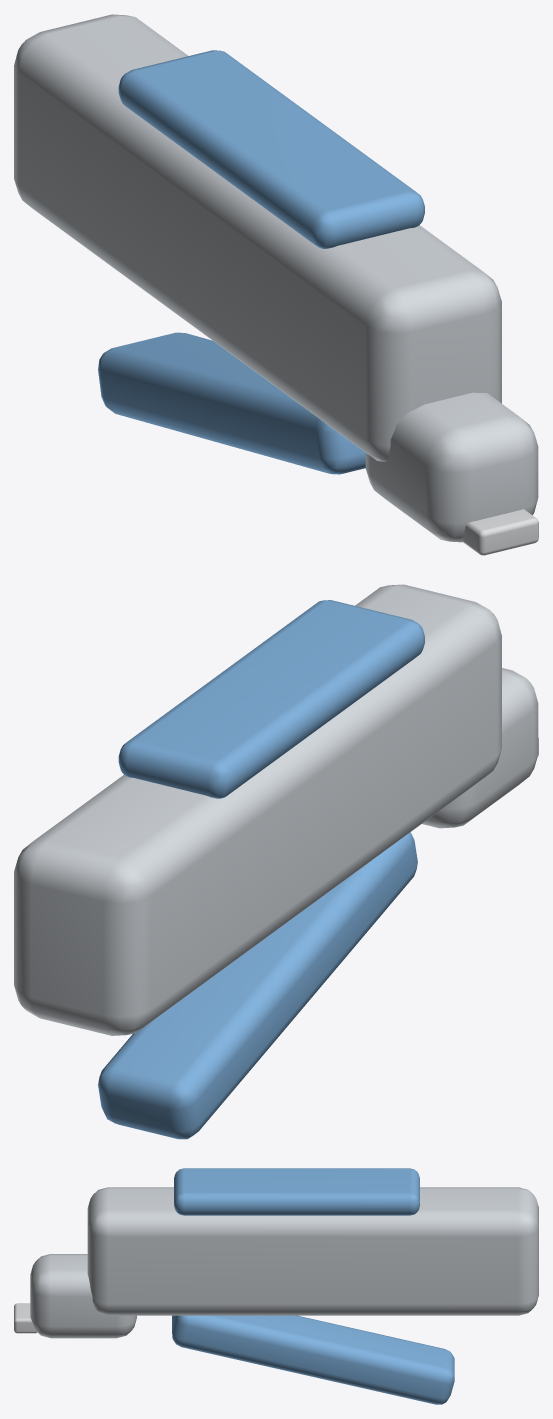
The model's file is inst.skin_stapler.fbx.
3 renders of one model, top to bottom at view 1: azimuth 30°, elevation 25°; view 2: azimuth 150°, elevation 25°; view 3: azimuth 270°, elevation 25°, orthographic. The views are drawn at different scales.
Visible parts, largest first — view 1: Body, TopCover, Trigger, Nose; view 2: Body, Trigger, TopCover; view 3: Body, Trigger, TopCover, Nose.
Part boxes in pixels (<box>): Body: <box>14,14,538,542</box>; TopCover: <box>118,50,424,248</box>; Trigger: <box>98,332,365,474</box>; Nose: <box>462,509,538,555</box>; Body: <box>14,584,538,1035</box>; Trigger: <box>98,832,417,1139</box>; TopCover: <box>118,600,424,798</box>; Body: <box>30,1187,538,1338</box>; Trigger: <box>172,1315,454,1404</box>; TopCover: <box>174,1168,419,1215</box>; Nose: <box>14,1303,37,1333</box>.
Bounding box in the file's own units: 0.022 × 0.0576 × 0.128.
